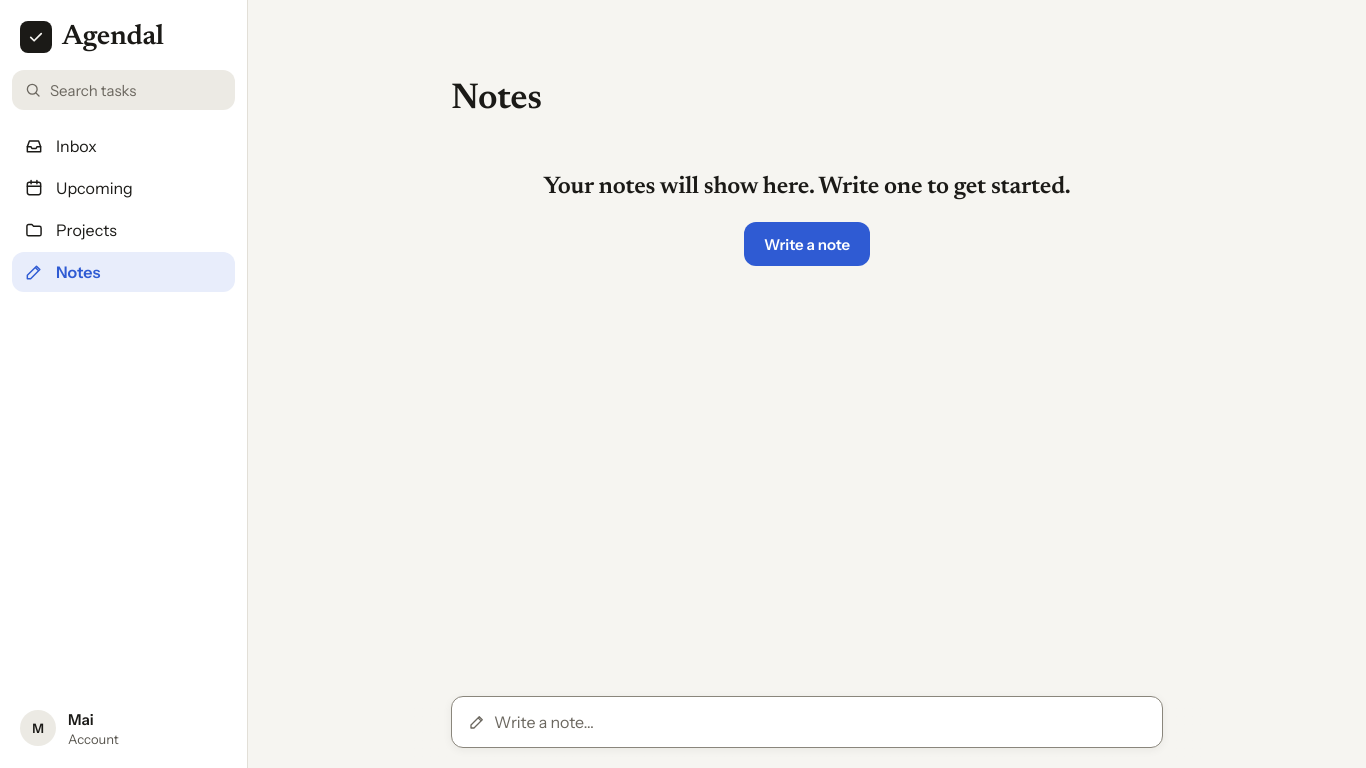
Test case: Routes (IM-07): every route renders with an empty state › the Notes tab opens the full-screen editor with the cursor in the text (T-NC-01)
Click the button "Write a note" at (807, 244), box [744,222,870,266]
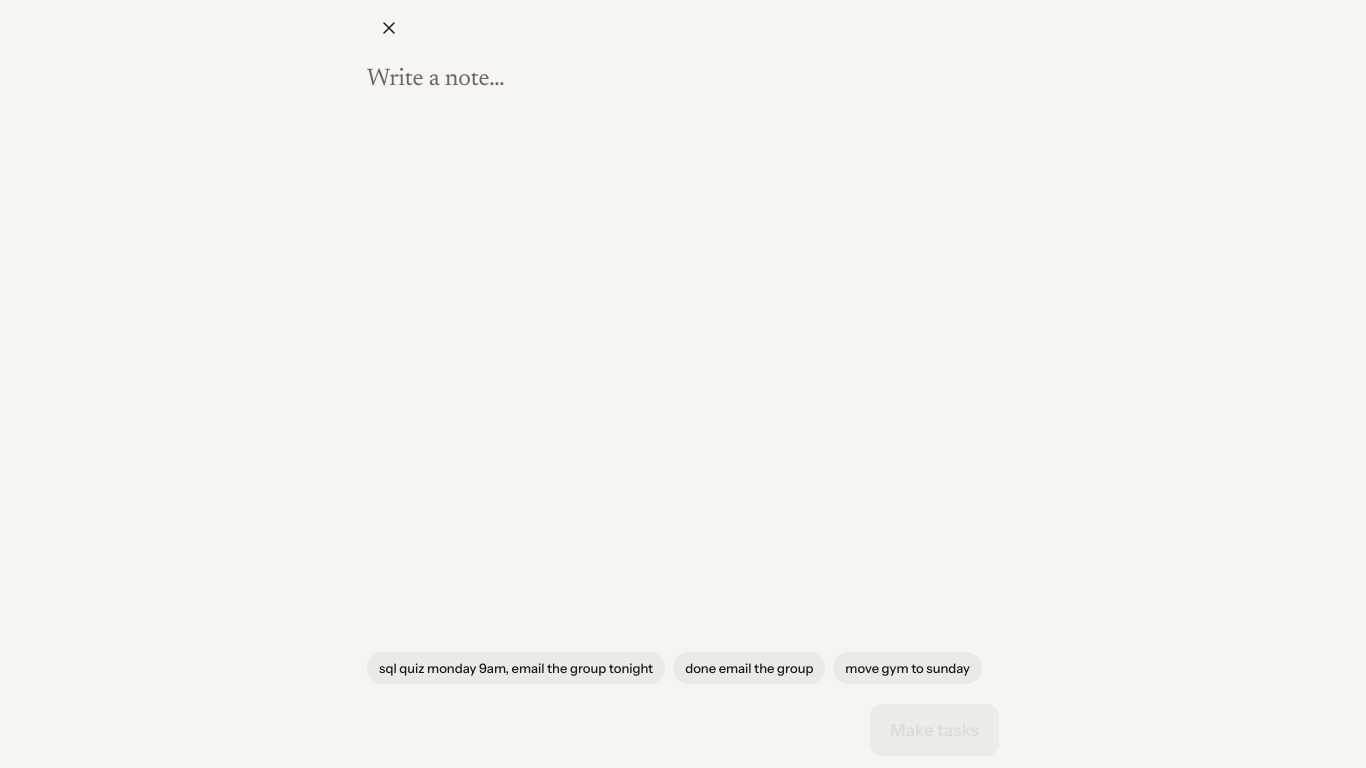
Click the button named "Close" at (389, 28), box [367,6,411,50]
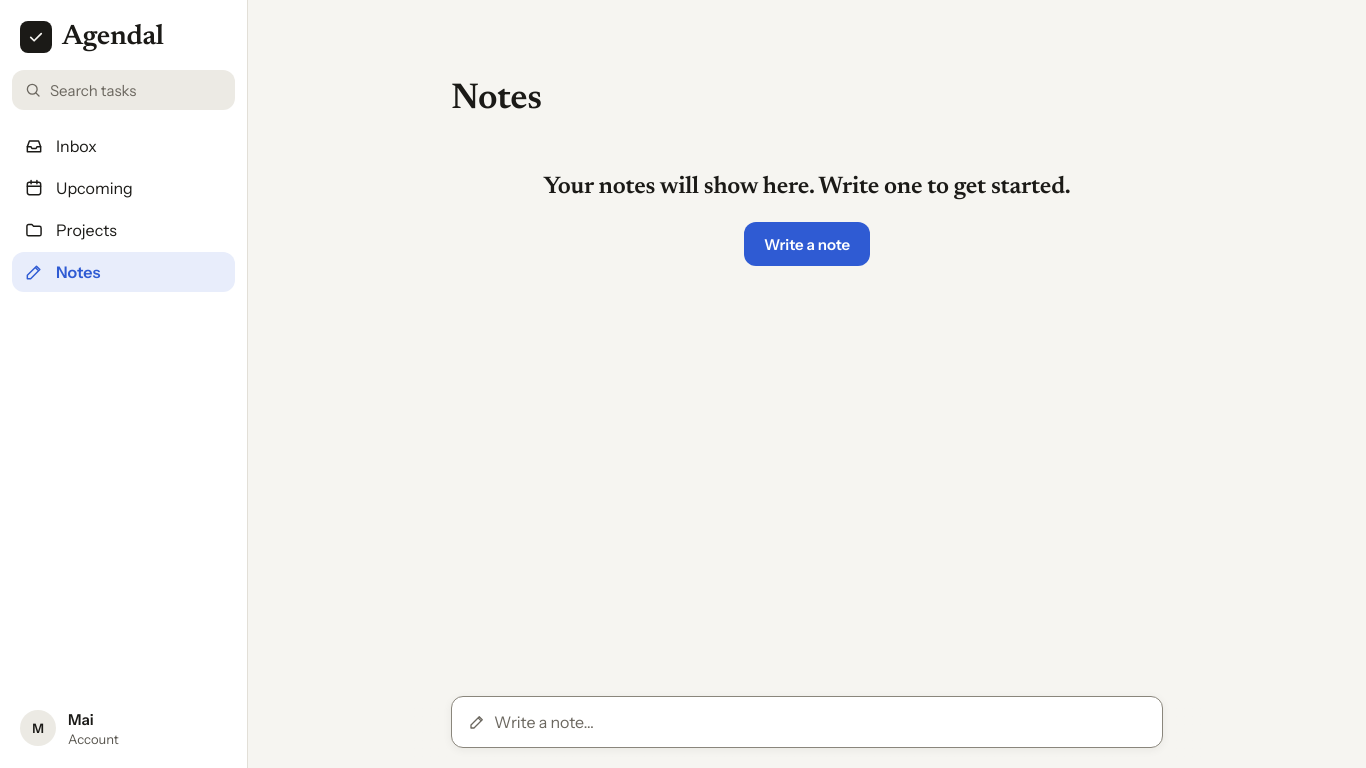
Check: the dialog is gone
